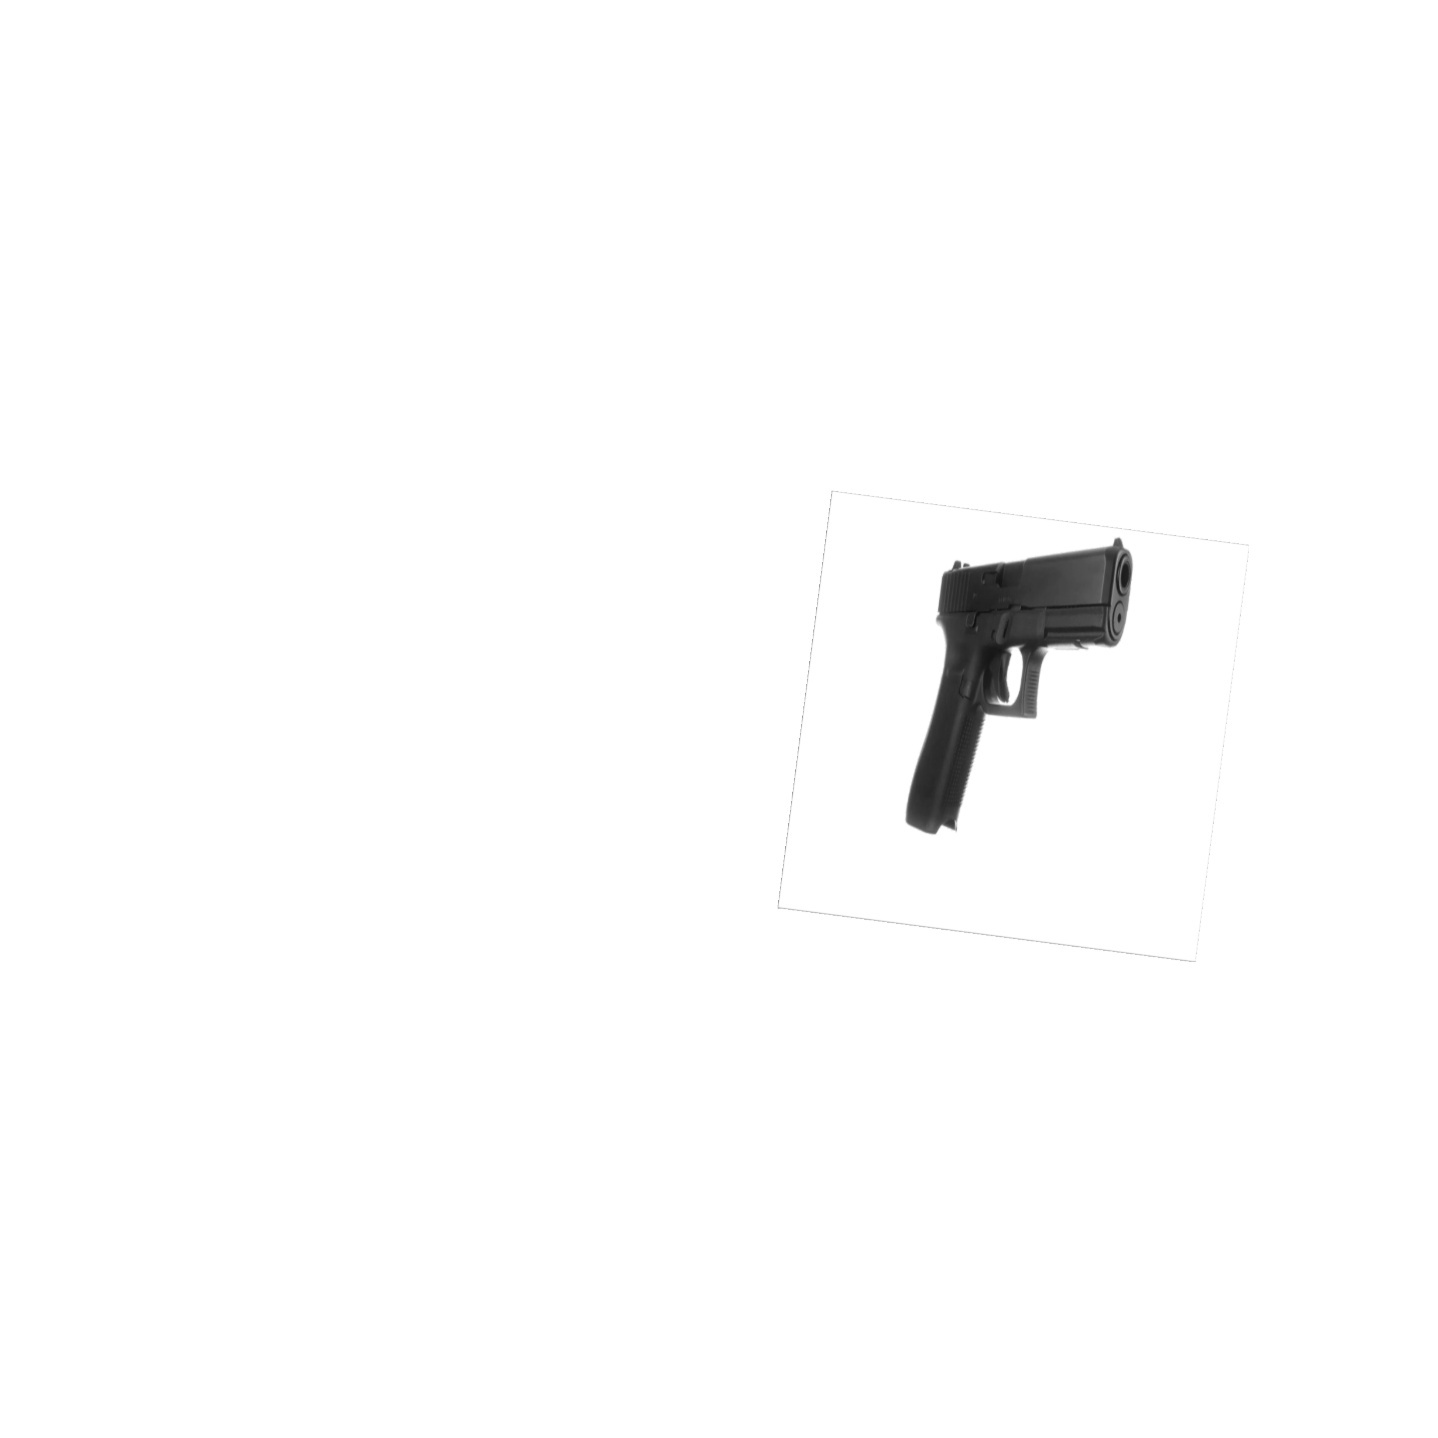gun: (878, 529, 1140, 834)
